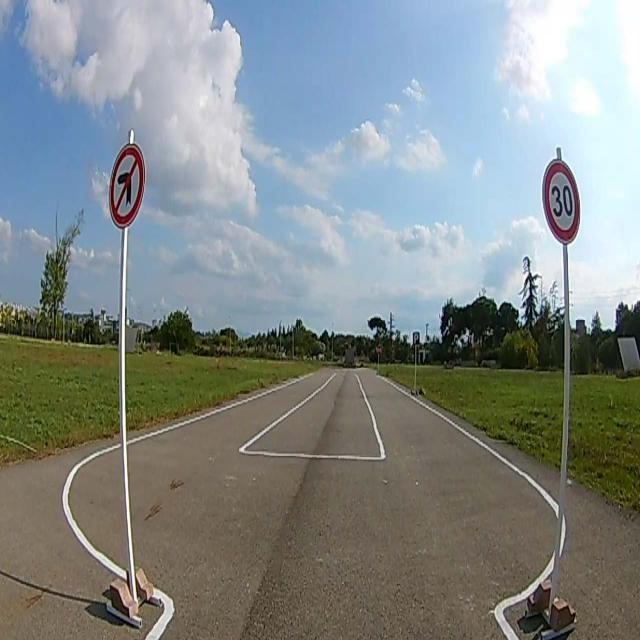30: (543, 162, 581, 242)
soladonulmez: (109, 146, 145, 223)
